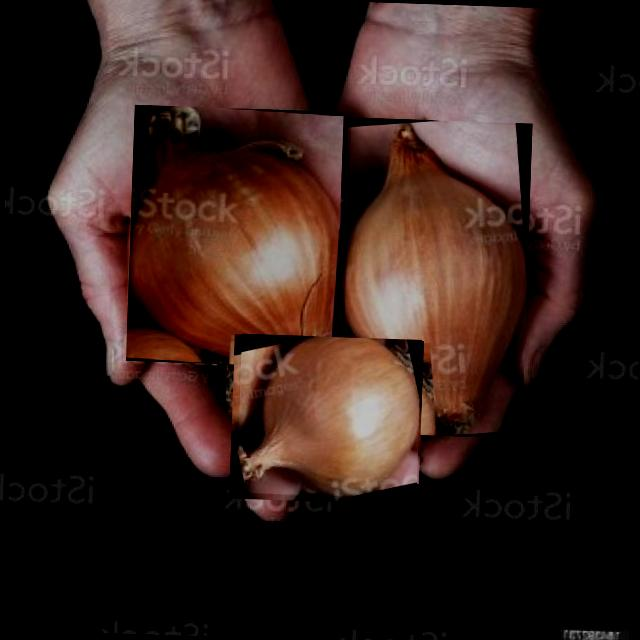healthy: (345, 121, 526, 434), (129, 106, 339, 365), (237, 337, 419, 496)
